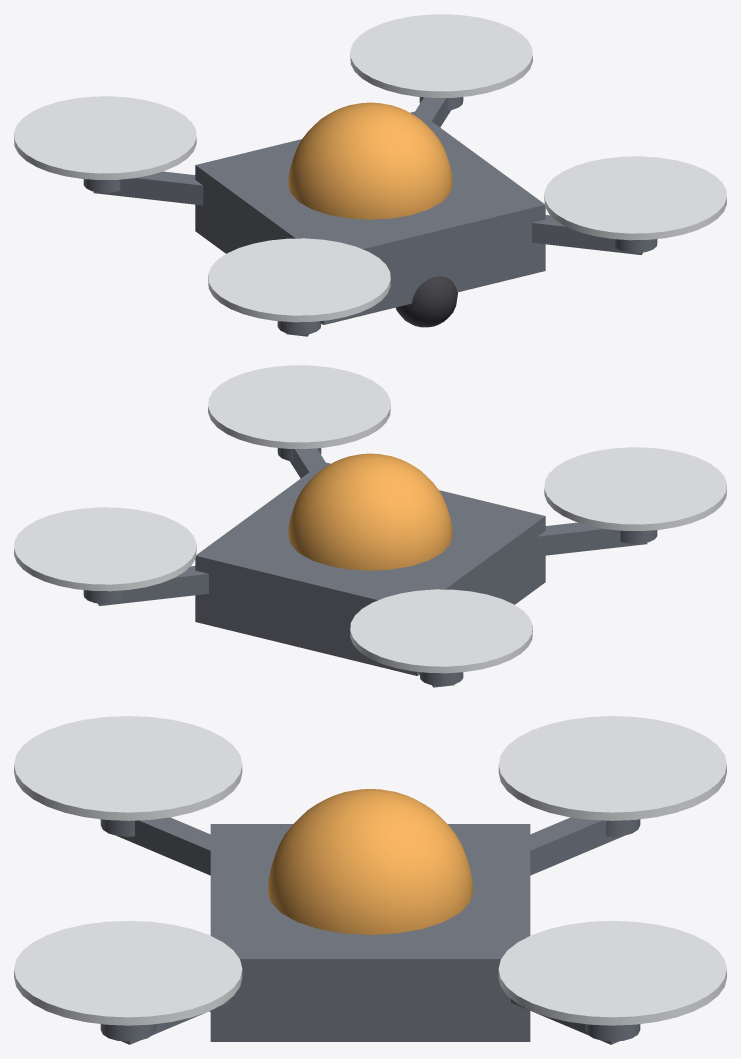
File: drone.glb
The picture shows the model from 3 angles, top to bottom: view 1: azimuth 30°, elevation 25°; view 2: azimuth 150°, elevation 25°; view 3: azimuth 270°, elevation 25°; orthographic projection. The views are drawn at different scales.
Visible parts, largest first — view 1: body, canopy, rotor-3, rotor-2, rotor-0, rotor-1, arm-2, camera, arm-0, arm-1; view 2: body, canopy, rotor-2, rotor-3, rotor-0, rotor-1, arm-3, arm-1, arm-0; view 3: body, canopy, rotor-2, rotor-3, rotor-0, rotor-1, arm-2, arm-3, motor-0, motor-1.
Boxes of the visible parts, bbox=[...] form: body: bbox=[195, 111, 545, 324]; canopy: bbox=[288, 102, 452, 219]; rotor-3: bbox=[208, 238, 390, 322]; rotor-2: bbox=[14, 96, 196, 179]; rotor-0: bbox=[544, 156, 726, 240]; rotor-1: bbox=[350, 14, 532, 97]; arm-2: bbox=[93, 171, 203, 205]; camera: bbox=[396, 276, 457, 327]; arm-0: bbox=[532, 215, 643, 254]; arm-1: bbox=[415, 97, 450, 127]; body: bbox=[195, 462, 545, 675]; canopy: bbox=[288, 453, 452, 570]; rotor-2: bbox=[350, 589, 532, 673]; rotor-3: bbox=[544, 447, 726, 530]; rotor-0: bbox=[208, 365, 390, 448]; rotor-1: bbox=[14, 507, 196, 591]; arm-3: bbox=[537, 522, 647, 556]; arm-1: bbox=[97, 566, 208, 605]; arm-0: bbox=[290, 448, 325, 478]; body: bbox=[210, 824, 530, 1041]; canopy: bbox=[267, 789, 473, 934]; rotor-2: bbox=[498, 716, 726, 820]; rotor-3: bbox=[14, 716, 242, 820]; rotor-0: bbox=[14, 921, 242, 1025]; rotor-1: bbox=[498, 921, 726, 1025]; arm-2: bbox=[530, 817, 623, 875]; arm-3: bbox=[117, 817, 210, 875]; motor-0: bbox=[100, 1024, 155, 1041]; motor-1: bbox=[585, 1024, 640, 1041].
Bounding box in the file's own units: 0.3121 × 0.105 × 0.3121.
